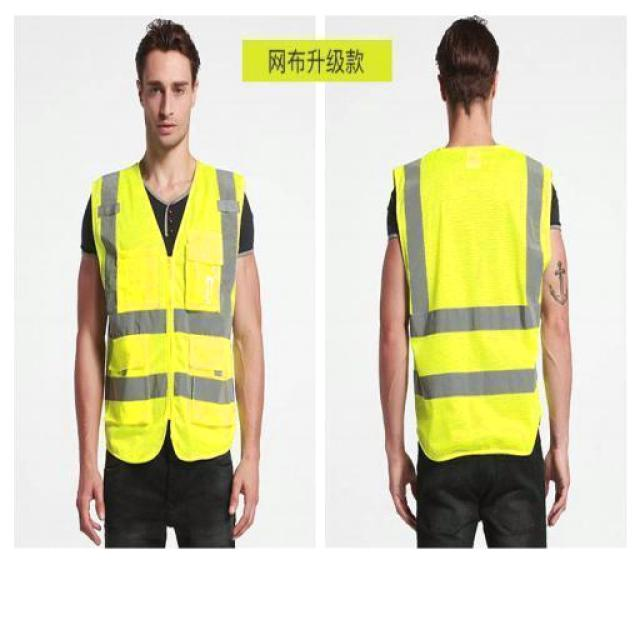face_nomask: (139, 72, 196, 140)
hand_noglove: (70, 460, 110, 545), (535, 447, 575, 528), (384, 453, 425, 527), (221, 466, 261, 539)
head_nohelmet: (432, 13, 502, 76), (132, 16, 203, 62)
person: (69, 16, 271, 546), (372, 18, 572, 550)
vest: (394, 148, 556, 460), (90, 158, 245, 462)
